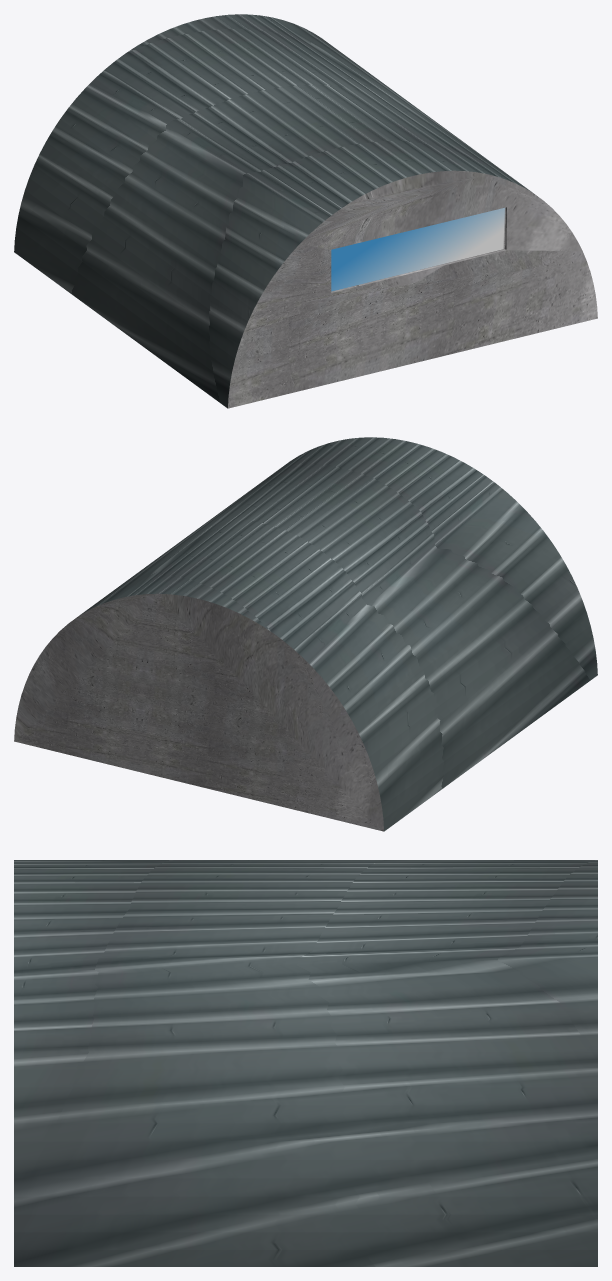
Rendered from hungar.fbx.
3 renders of one model, top to bottom at view 1: azimuth 30°, elevation 25°; view 2: azimuth 150°, elevation 25°; view 3: azimuth 270°, elevation 25°, orthographic. The views are drawn at different scales.
Visible parts, largest first — view 1: Hangar; view 2: Hangar; view 3: Hangar.
Boxes of the visible parts, box(x1,y1,x2,y2) form: Hangar: box(14, 14, 597, 408); Hangar: box(14, 437, 597, 831); Hangar: box(14, 860, 597, 1266).
Size of the model in its own units: 200 by 96.84 by 200.
